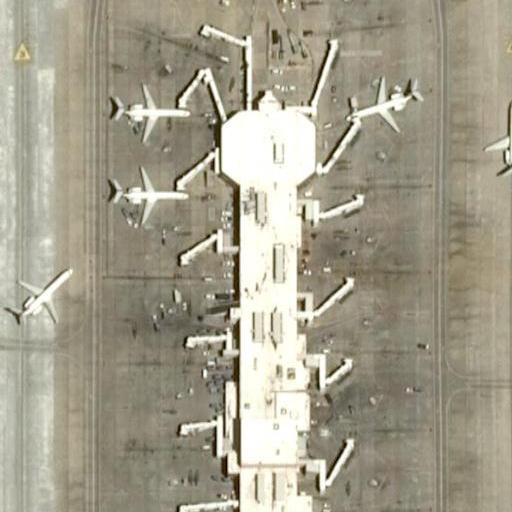Aircraft: (101, 162, 186, 229), (104, 76, 190, 142), (343, 70, 423, 133), (2, 259, 74, 328)
